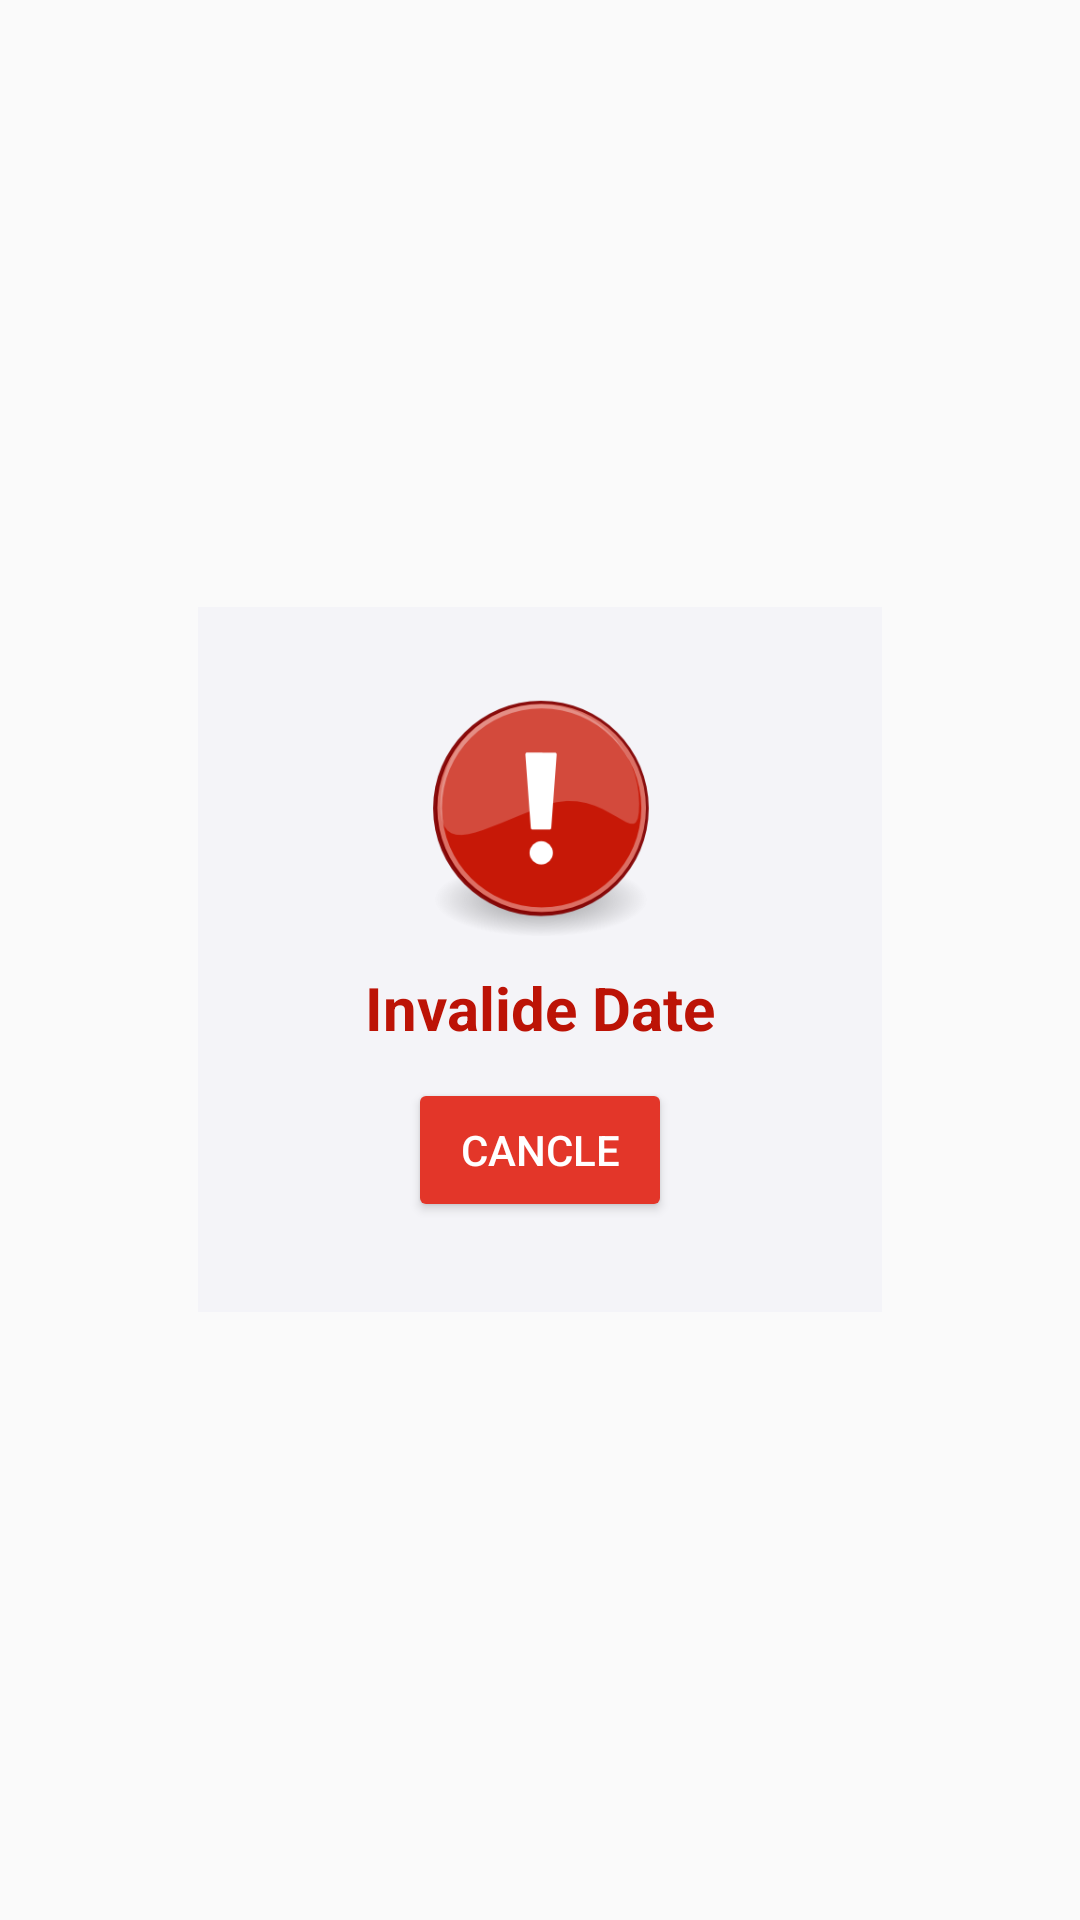

Icon click points for this 1080px x 1920px phone screenshot, format (x,y):
warning: (541,814)
